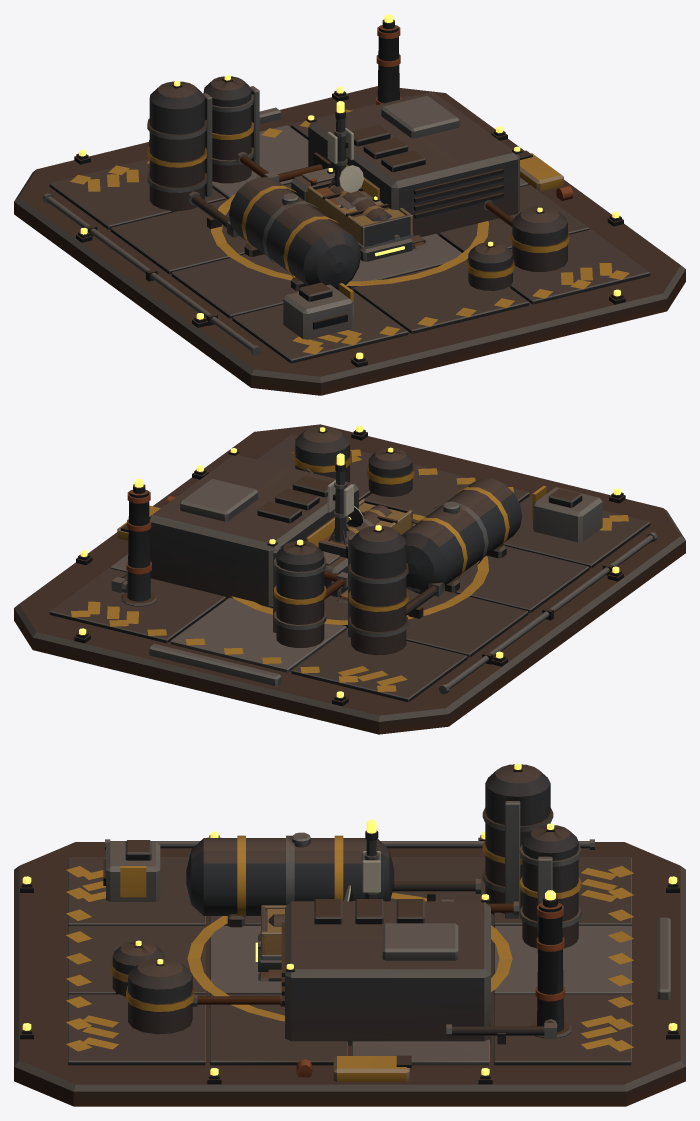
File: khepri-infra.glb
The picture shows the model from 3 angles, top to bottom: view 1: azimuth 30°, elevation 25°; view 2: azimuth 150°, elevation 25°; view 3: azimuth 270°, elevation 25°; orthographic projection. The views are drawn at different scales.
Visible parts, largest first — view 1: infra_landing_pad, infra_refinery, infra_cargo_0, infra_relay, infra_cargo_1, infra_cargo_2; view 2: infra_landing_pad, infra_refinery, infra_relay, infra_cargo_0, infra_cargo_1; view 3: infra_landing_pad, infra_refinery, infra_relay, infra_cargo_0.
Boxes of the visible parts, left/top/right/bottom form: infra_landing_pad: left=14, top=86, right=685, bottom=395; infra_refinery: left=147, top=14, right=569, bottom=339; infra_cargo_0: left=291, top=168, right=427, bottom=263; infra_relay: left=327, top=101, right=380, bottom=209; infra_cargo_1: left=330, top=185, right=400, bottom=245; infra_cargo_2: left=315, top=185, right=413, bottom=249; infra_landing_pad: left=14, top=424, right=685, bottom=734; infra_refinery: left=111, top=426, right=602, bottom=655; infra_relay: left=327, top=453, right=376, bottom=545; infra_cargo_0: left=318, top=498, right=412, bottom=603; infra_cargo_1: left=331, top=505, right=391, bottom=543; infra_landing_pad: left=14, top=831, right=685, bottom=1106; infra_refinery: left=103, top=763, right=581, bottom=1045; infra_relay: left=344, top=819, right=380, bottom=901; infra_cargo_0: left=255, top=905, right=286, bottom=981.
Bounding box in the file's own units: 5.4 × 1.65 × 6.2.
